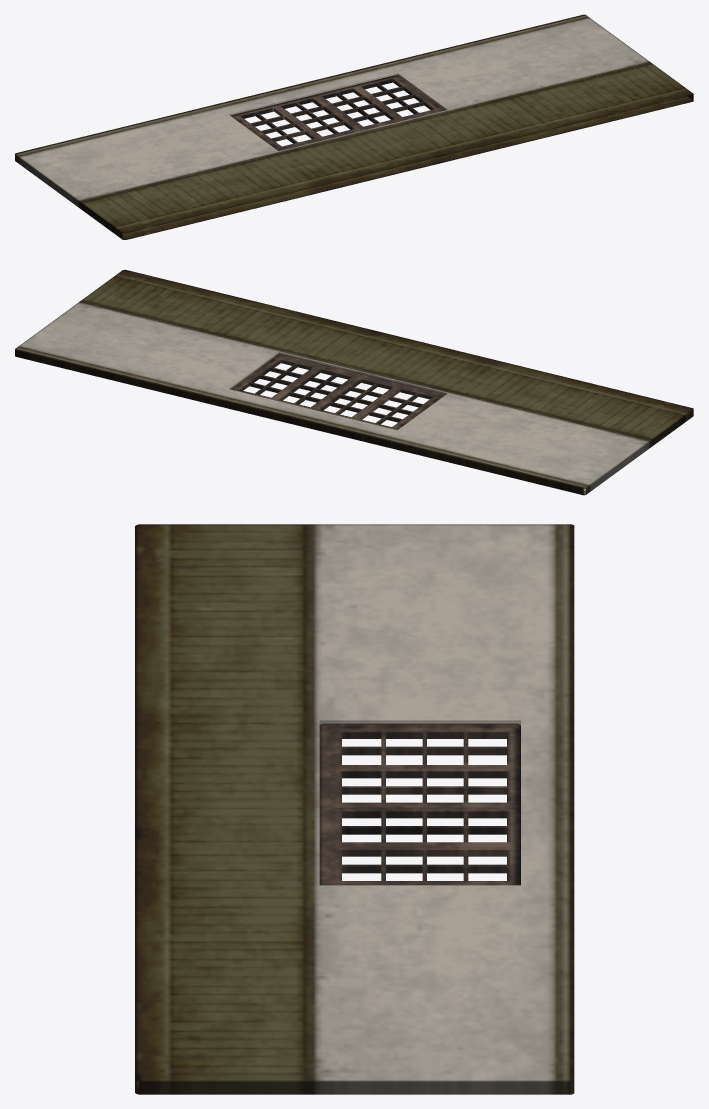
File: SM_EC_House_Wall_Window_2_9x3_1.fbx
3 renders of one model, top to bottom at view 1: azimuth 30°, elevation 25°; view 2: azimuth 150°, elevation 25°; view 3: azimuth 270°, elevation 25°, orthographic. The views are drawn at different scales.
Visible parts, largest first — view 1: SM_EC_House_Wall_Window_2_9x3_1; view 2: SM_EC_House_Wall_Window_2_9x3_1; view 3: SM_EC_House_Wall_Window_2_9x3_1.
Boxes of the visible parts, left/top/right/bottom form: SM_EC_House_Wall_Window_2_9x3_1: left=15, top=14, right=693, bottom=239; SM_EC_House_Wall_Window_2_9x3_1: left=15, top=269, right=693, bottom=495; SM_EC_House_Wall_Window_2_9x3_1: left=135, top=524, right=574, bottom=1094.
Size of the model in its own units: 9 by 3 by 0.1.
